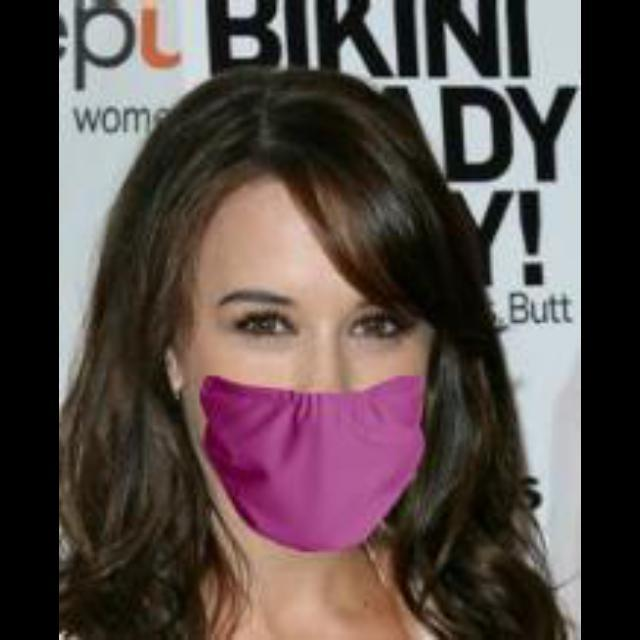suspicion: (163, 116, 444, 572)
